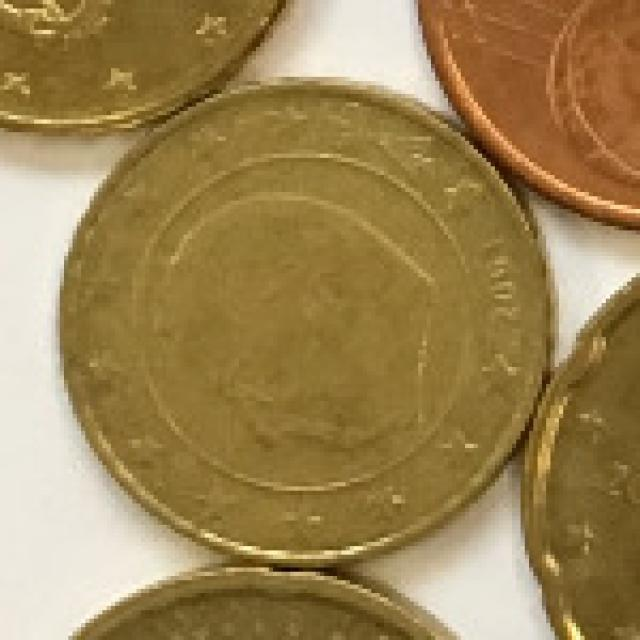10c: (51, 77, 563, 567)
